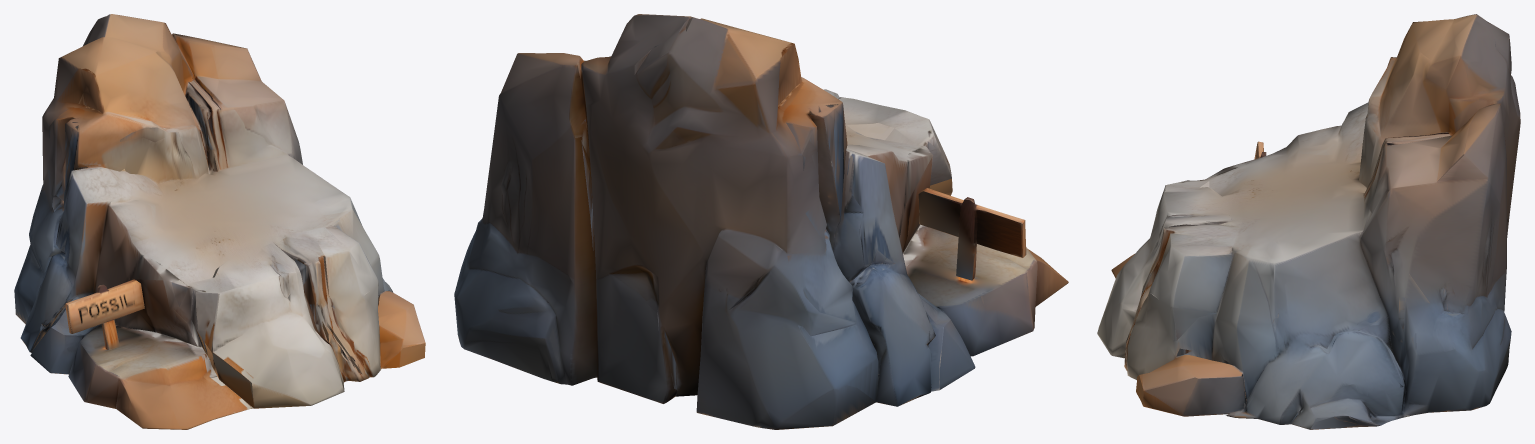
The model's file is SM_Stone.FBX.
3 views of the same model, side by side, from view 1: azimuth 30°, elevation 25°; view 2: azimuth 150°, elevation 25°; view 3: azimuth 270°, elevation 25° (orthographic). The views are drawn at different scales.
Parts seen in each view (by area): view 1: SM_Stone; view 2: SM_Stone; view 3: SM_Stone.
Boxes of the visible parts, x1,y1,x2,y2 form: SM_Stone: (14,14,425,429); SM_Stone: (454,14,1068,429); SM_Stone: (1097,14,1520,429).
Size of the model in its own units: 61.77 by 46.49 by 58.47.
